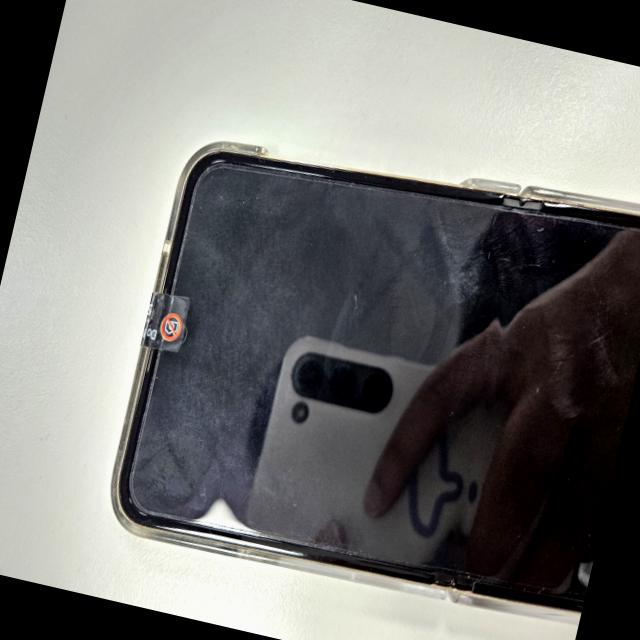phone: (93, 94, 640, 638)
sticker: (134, 280, 200, 360)
